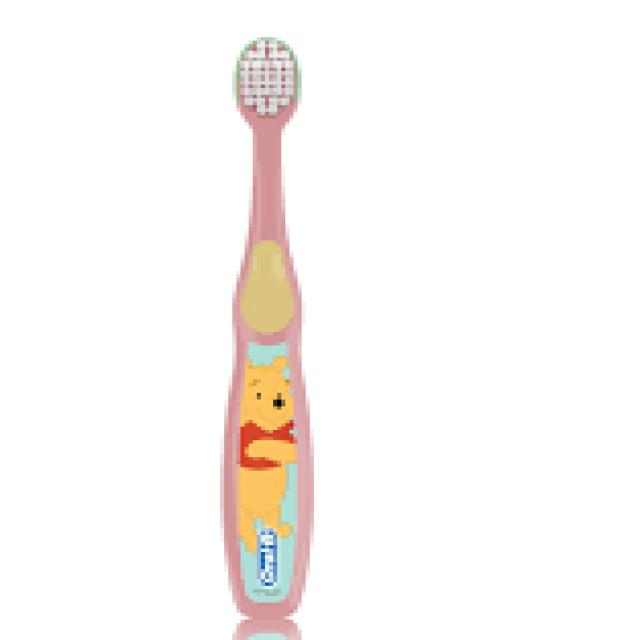organic: (200, 18, 357, 613)
